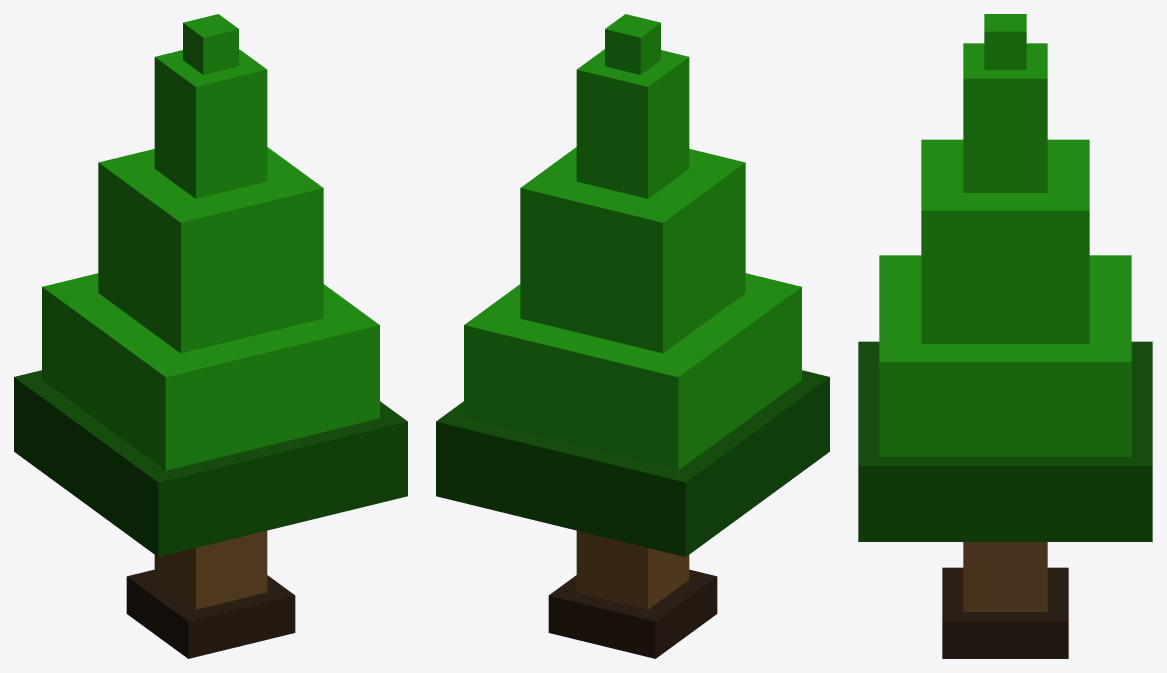
The model's file is Tree.fbx.
The picture shows the model from 3 angles, left to right: view 1: azimuth 30°, elevation 25°; view 2: azimuth 150°, elevation 25°; view 3: azimuth 270°, elevation 25°; orthographic projection. The views are drawn at different scales.
Visible parts, largest first — view 1: cube_9, cube_1, cube_8, cube_2, cube_4, cube, cube_3; view 2: cube_9, cube_1, cube_8, cube_2, cube_4, cube, cube_3; view 3: cube_9, cube_8, cube_1, cube_2, cube_4, cube, cube_3.
Part boxes in pixels (x1,y1,x2,y2): cube_9: [42, 273, 379, 470]; cube_1: [98, 147, 323, 353]; cube_8: [14, 370, 407, 556]; cube_2: [154, 49, 267, 198]; cube_4: [126, 569, 295, 658]; cube: [154, 530, 267, 609]; cube_3: [183, 14, 238, 74]; cube_9: [464, 273, 801, 470]; cube_1: [520, 147, 745, 353]; cube_8: [436, 370, 829, 556]; cube_2: [576, 49, 689, 198]; cube_4: [548, 569, 717, 658]; cube: [576, 530, 689, 609]; cube_3: [605, 14, 660, 74]; cube_9: [879, 255, 1131, 456]; cube_8: [858, 341, 1152, 541]; cube_1: [921, 139, 1089, 343]; cube_2: [963, 43, 1047, 192]; cube_4: [942, 567, 1068, 658]; cube: [963, 542, 1047, 611]; cube_3: [984, 14, 1026, 69].
Size of the model in its own units: 87.5 by 200 by 87.5.
Materials: 1 (1 with a texture image).
